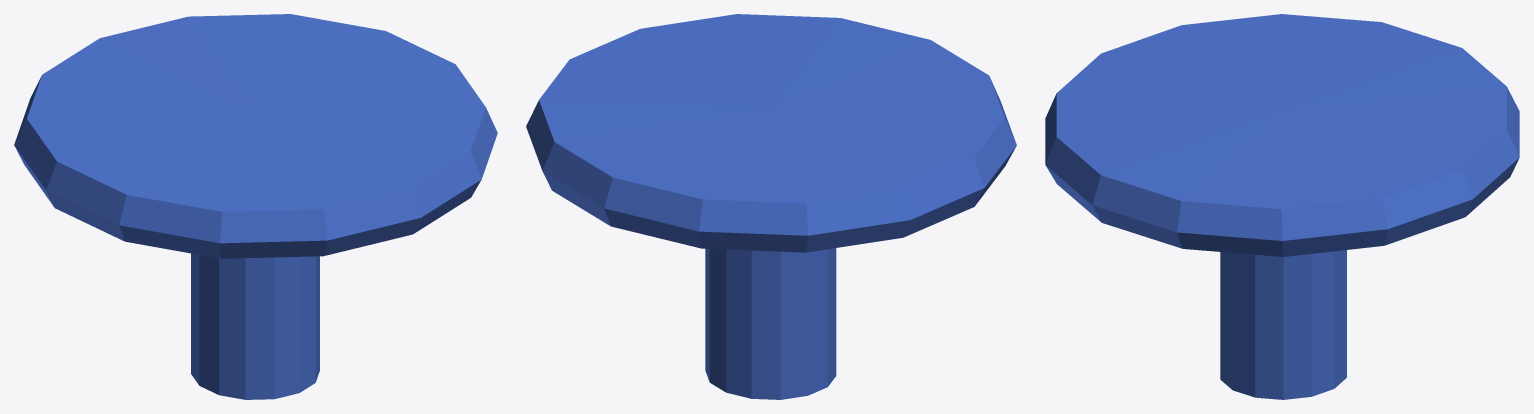
The model's file is Mothership_02_Radar_Blue.fbx.
3 views of the same model, side by side, from view 1: azimuth 30°, elevation 25°; view 2: azimuth 150°, elevation 25°; view 3: azimuth 270°, elevation 25° (orthographic).
Parts seen in each view (by area): view 1: Mothership_02_Radar_Blue; view 2: Mothership_02_Radar_Blue; view 3: Mothership_02_Radar_Blue.
Boxes of the visible parts, bbox=[...] form: Mothership_02_Radar_Blue: bbox=[14, 14, 497, 399]; Mothership_02_Radar_Blue: bbox=[526, 14, 1016, 399]; Mothership_02_Radar_Blue: bbox=[1045, 14, 1519, 399].
Size of the model in its own units: 402 by 242 by 392.
1 material, 1 textured.
